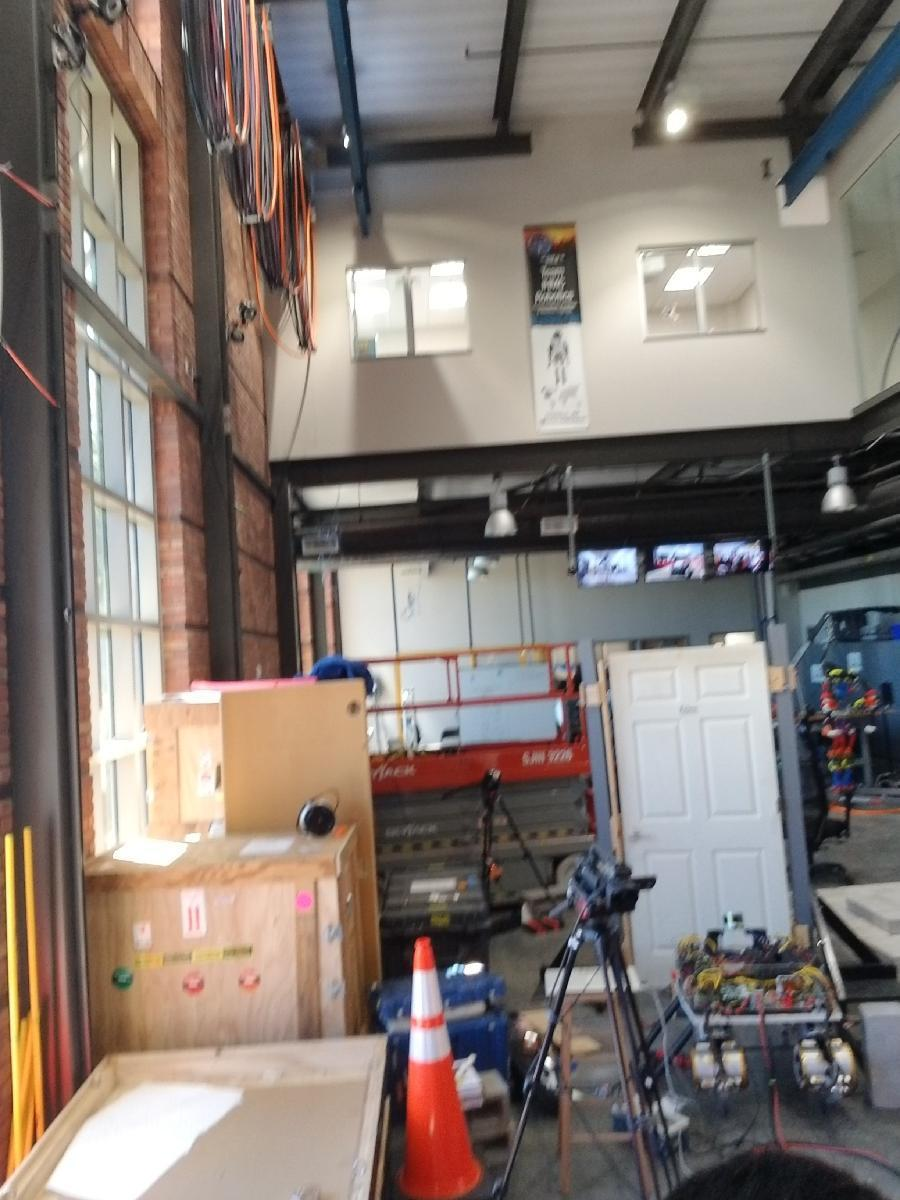door: (606, 648, 787, 1005)
